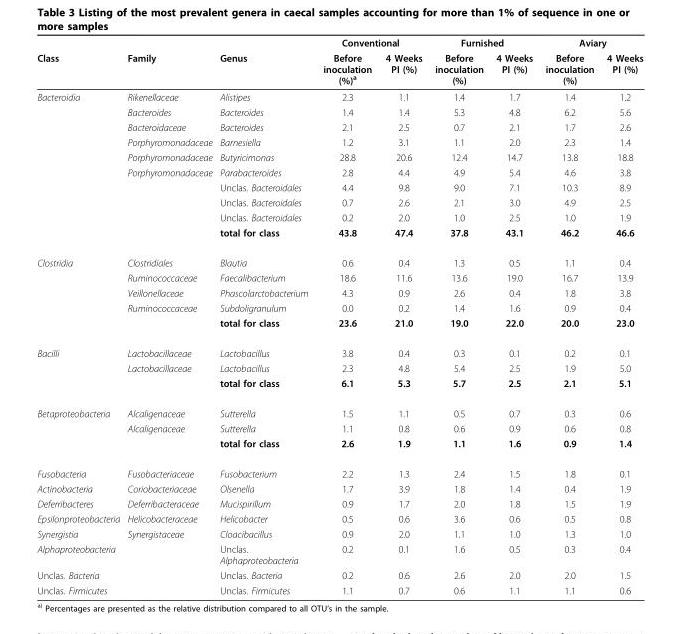table: (36, 36, 642, 595)
table column: (215, 36, 314, 595), (123, 36, 215, 595), (36, 36, 123, 595), (314, 36, 378, 595), (427, 36, 489, 595), (538, 36, 599, 595), (378, 36, 427, 595), (489, 36, 538, 595), (599, 36, 642, 595)
table column header: (36, 36, 642, 88)
table row: (36, 49, 642, 88), (36, 541, 642, 567), (36, 224, 642, 247), (36, 247, 642, 270), (36, 337, 642, 360), (36, 375, 642, 398), (36, 435, 642, 458), (36, 315, 642, 337), (36, 398, 642, 420), (36, 458, 642, 480), (36, 88, 642, 104), (36, 495, 642, 511), (36, 104, 642, 119), (36, 119, 642, 134), (36, 134, 642, 149), (36, 149, 642, 164), (36, 164, 642, 179), (36, 179, 642, 194), (36, 194, 642, 209), (36, 209, 642, 224), (36, 270, 642, 285), (36, 285, 642, 300), (36, 300, 642, 315), (36, 360, 642, 375), (36, 420, 642, 435), (36, 480, 642, 495), (36, 511, 642, 526), (36, 526, 642, 541), (36, 567, 642, 582), (36, 36, 642, 49), (36, 582, 642, 595)
table spanning cell: (36, 88, 123, 247), (36, 247, 123, 337), (36, 337, 123, 398), (36, 398, 123, 458), (215, 36, 314, 88), (123, 36, 215, 88), (36, 36, 123, 88), (314, 36, 427, 49), (427, 36, 538, 49), (538, 36, 642, 49)
